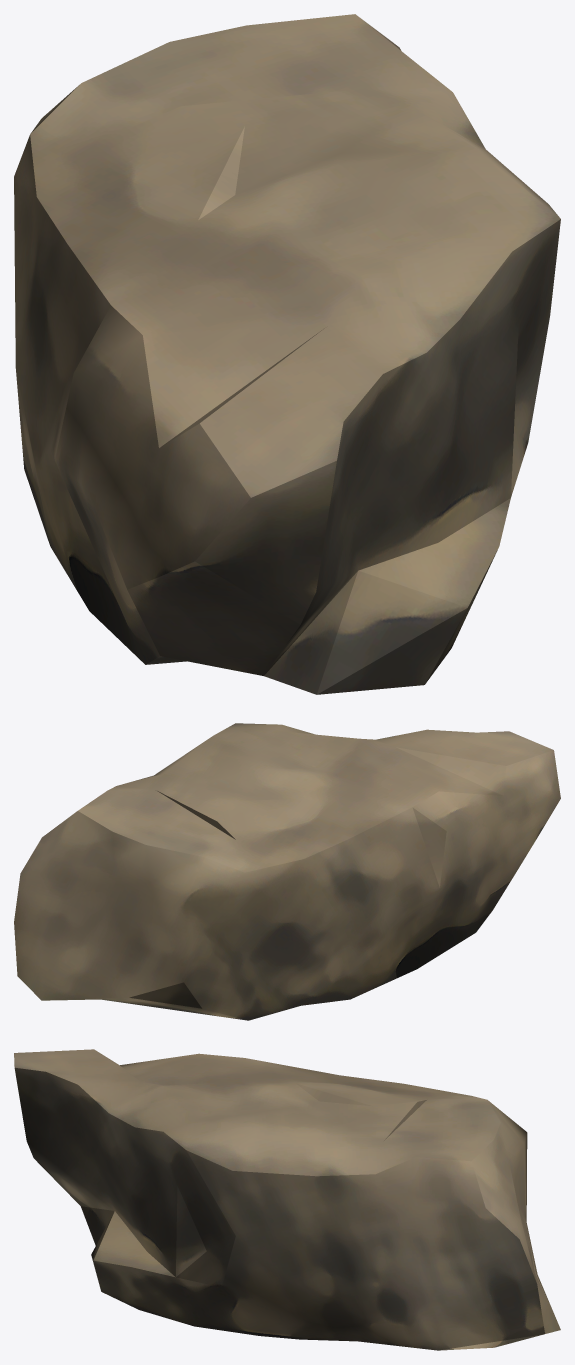
Rendered from Obj_FakeRock.fbx.
The picture shows the model from 3 angles, top to bottom: view 1: azimuth 30°, elevation 25°; view 2: azimuth 150°, elevation 25°; view 3: azimuth 270°, elevation 25°; orthographic projection. The views are drawn at different scales.
Parts seen in each view (by area): view 1: Obj_FakeRock; view 2: Obj_FakeRock; view 3: Obj_FakeRock.
Part boxes in pixels (bbox=[...]): Obj_FakeRock: bbox=[14, 14, 560, 694]; Obj_FakeRock: bbox=[14, 723, 560, 1020]; Obj_FakeRock: bbox=[14, 1049, 560, 1350].
Size of the model in its own units: 0.1017 by 0.0593 by 0.1361.
Materials: 1 (1 with a texture image).
